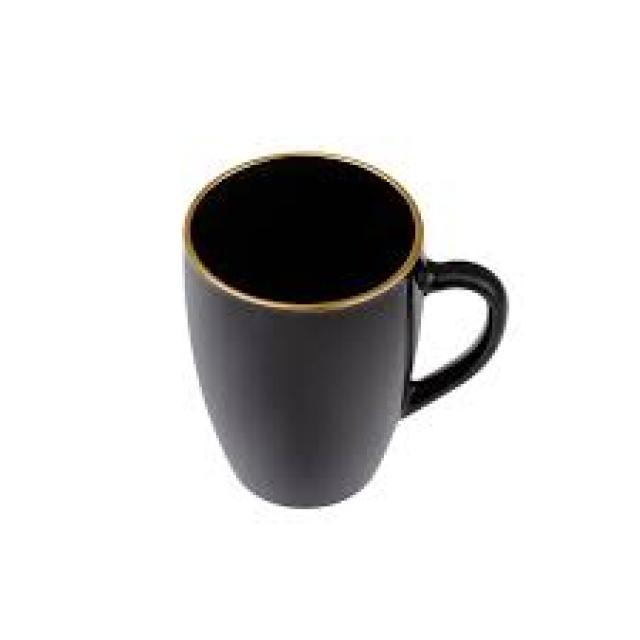taza: (182, 150, 508, 512)
